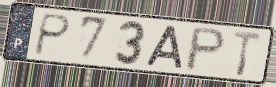3: (114, 19, 147, 67)
7: (77, 14, 111, 64)
A: (144, 24, 185, 71)
P: (182, 25, 228, 73), (31, 12, 73, 58)
T: (232, 29, 264, 79)
